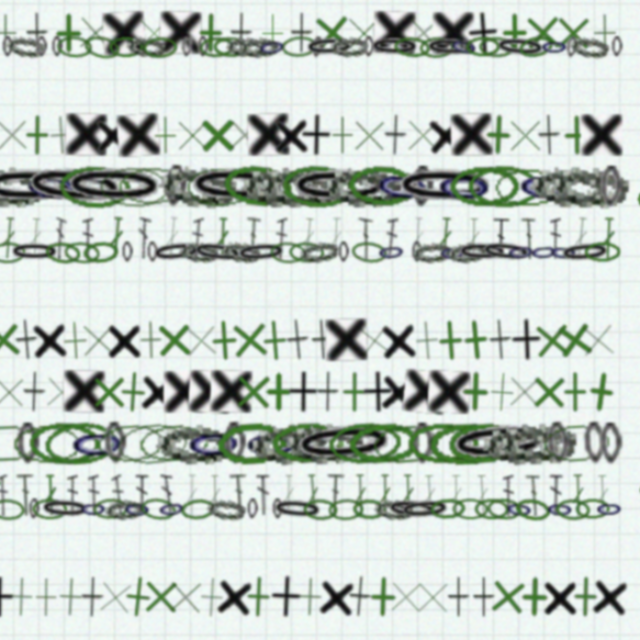chain: (53, 167, 151, 213), (441, 401, 538, 446), (299, 402, 396, 446), (90, 169, 186, 210), (203, 169, 299, 210), (392, 170, 487, 210), (13, 171, 108, 209), (296, 171, 391, 209), (260, 402, 333, 446), (472, 402, 545, 446), (178, 168, 250, 211), (138, 402, 208, 446), (235, 167, 303, 212), (73, 402, 143, 445), (488, 403, 560, 444), (158, 403, 226, 445), (332, 403, 400, 445), (536, 170, 607, 210), (120, 403, 187, 445), (350, 403, 417, 445), (526, 403, 593, 445), (370, 403, 436, 445), (441, 403, 507, 445), (294, 404, 365, 443), (290, 169, 357, 210), (5, 170, 75, 209), (517, 170, 587, 209), (230, 403, 296, 444), (350, 169, 415, 210), (254, 171, 324, 209), (271, 171, 341, 209), (329, 171, 399, 209), (176, 405, 246, 443), (87, 170, 153, 210), (123, 170, 189, 210), (424, 404, 490, 444), (460, 170, 527, 209), (60, 404, 126, 443), (281, 404, 347, 443), (9, 404, 73, 444), (140, 170, 205, 209), (405, 405, 471, 443), (443, 171, 508, 209), (44, 405, 109, 443), (202, 171, 266, 209), (482, 171, 546, 209), (373, 168, 429, 211), (54, 169, 110, 211), (430, 170, 484, 210), (96, 404, 150, 444), (202, 404, 256, 444), (255, 404, 309, 444), (504, 170, 558, 209), (208, 238, 256, 262), (171, 238, 219, 261), (471, 238, 519, 261), (484, 52, 532, 74), (248, 239, 296, 261), (543, 239, 591, 261), (281, 473, 329, 495), (385, 473, 433, 495), (397, 473, 445, 495), (311, 52, 358, 73), (70, 473, 117, 494), (421, 53, 468, 73), (109, 50, 145, 76), (306, 237, 343, 262), (182, 170, 205, 209), (531, 404, 554, 443), (370, 53, 417, 72), (42, 240, 89, 259), (450, 240, 497, 259), (441, 238, 478, 262), (505, 50, 540, 75), (128, 404, 150, 443), (237, 404, 259, 443), (565, 404, 587, 443), (39, 51, 76, 74), (235, 238, 272, 261), (502, 472, 536, 496), (408, 171, 429, 209), (580, 171, 601, 209), (49, 405, 70, 443), (580, 405, 601, 443), (252, 52, 288, 74), (553, 52, 589, 74), (409, 239, 445, 261), (129, 473, 165, 495), (222, 473, 258, 495), (161, 472, 195, 495), (353, 239, 388, 261), (409, 405, 429, 443), (149, 52, 185, 73), (334, 52, 370, 73), (197, 239, 233, 260), (392, 52, 426, 74), (74, 239, 108, 261), (92, 239, 125, 261), (198, 473, 231, 495), (375, 474, 410, 494), (85, 52, 118, 73), (290, 52, 323, 73), (109, 239, 142, 260), (118, 473, 151, 494), (425, 473, 458, 494), (477, 473, 510, 494), (442, 51, 471, 74), (240, 53, 275, 72), (215, 53, 248, 73), (470, 53, 503, 73), (164, 53, 196, 73), (228, 53, 260, 73), (416, 53, 448, 73), (25, 240, 57, 260), (280, 240, 312, 260), (297, 240, 329, 260), (25, 474, 57, 494), (310, 474, 342, 494), (333, 474, 365, 494), (540, 474, 572, 494), (566, 240, 599, 259), (446, 474, 479, 493), (355, 474, 386, 494), (268, 52, 296, 74), (493, 473, 521, 495), (133, 53, 165, 72), (458, 53, 490, 72), (63, 474, 95, 493), (466, 474, 498, 493), (558, 474, 590, 493), (377, 239, 404, 260), (495, 239, 522, 260), (516, 239, 543, 260), (177, 473, 204, 494), (433, 240, 460, 260), (534, 240, 561, 260), (146, 474, 172, 494), (531, 474, 557, 494), (526, 53, 552, 72), (106, 474, 132, 493), (576, 474, 602, 493), (317, 53, 329, 73), (549, 53, 561, 73), (199, 53, 210, 72), (36, 53, 46, 72), (67, 53, 77, 72), (81, 53, 91, 72), (214, 53, 224, 72), (365, 53, 375, 72), (591, 53, 601, 72), (145, 240, 155, 259), (168, 240, 178, 259), (342, 240, 352, 259), (409, 240, 419, 259), (60, 474, 70, 493), (259, 474, 269, 493), (282, 474, 292, 493)
double: (243, 452, 261, 490), (255, 217, 272, 256), (482, 218, 499, 256), (49, 452, 66, 490), (331, 452, 348, 490), (132, 217, 148, 256), (183, 217, 199, 256), (555, 217, 571, 256), (34, 218, 50, 256), (157, 218, 172, 256), (307, 218, 322, 256), (407, 218, 422, 256), (432, 218, 447, 256), (312, 452, 327, 490), (418, 452, 433, 490), (466, 452, 481, 490), (512, 452, 527, 490), (59, 218, 73, 256), (230, 218, 244, 256), (333, 218, 347, 256), (360, 218, 374, 256), (508, 218, 522, 256), (581, 218, 595, 256), (73, 452, 87, 490), (135, 452, 149, 490), (223, 452, 237, 490), (267, 452, 281, 490), (399, 452, 413, 490), (576, 452, 590, 490), (82, 218, 95, 256), (384, 218, 397, 256), (459, 218, 472, 256), (157, 452, 170, 490), (180, 452, 193, 490), (356, 452, 369, 490), (443, 452, 456, 490), (534, 452, 547, 490), (554, 452, 567, 490), (208, 218, 220, 256), (203, 452, 215, 490), (291, 452, 303, 490), (379, 452, 391, 490), (285, 218, 296, 256), (31, 452, 42, 490), (114, 452, 125, 490), (109, 218, 119, 256), (535, 218, 545, 256), (95, 452, 105, 490), (492, 452, 502, 490)
noise: (0, 453, 36, 468), (0, 487, 19, 508), (613, 192, 632, 211), (616, 460, 629, 473)
single: (536, 308, 579, 351), (354, 309, 396, 351), (400, 356, 442, 398), (561, 356, 603, 398), (118, 543, 160, 585), (316, 29, 357, 70), (16, 309, 57, 350), (241, 309, 282, 350), (447, 309, 488, 350), (558, 309, 599, 350), (139, 543, 180, 584), (476, 543, 517, 584), (127, 30, 167, 70), (70, 123, 110, 163), (140, 123, 180, 163), (82, 310, 122, 350), (197, 310, 237, 350), (218, 310, 258, 350), (264, 310, 304, 350), (403, 310, 443, 350), (424, 310, 464, 350), (517, 310, 557, 350), (70, 357, 110, 397), (135, 357, 175, 397), (205, 357, 245, 397), (423, 357, 463, 397), (471, 357, 511, 397), (207, 544, 247, 584), (229, 543, 267, 584), (571, 543, 609, 584), (101, 30, 140, 69), (179, 30, 218, 69), (374, 30, 413, 69), (400, 30, 439, 69), (509, 30, 548, 69), (25, 123, 64, 162), (93, 123, 132, 162), (237, 123, 276, 162), (259, 123, 298, 162), (444, 123, 483, 162), (468, 123, 507, 162), (104, 310, 143, 349), (152, 310, 191, 349), (173, 310, 212, 349), (330, 310, 369, 349), (91, 357, 130, 396), (225, 357, 264, 396), (245, 357, 284, 396), (447, 357, 486, 396), (492, 357, 531, 396), (34, 544, 73, 583), (79, 544, 118, 583), (161, 544, 200, 583), (183, 544, 222, 583), (250, 544, 289, 583), (297, 544, 336, 583), (363, 544, 402, 583), (384, 544, 423, 583), (501, 544, 540, 583), (548, 544, 587, 583), (322, 544, 360, 584), (422, 123, 459, 163), (379, 310, 416, 350), (160, 357, 197, 397), (379, 357, 416, 397), (20, 31, 58, 69), (77, 31, 115, 69), (155, 31, 193, 69), (207, 31, 245, 69), (263, 31, 301, 69), (346, 31, 384, 69), (428, 31, 466, 69), (484, 31, 522, 69), (537, 31, 575, 69), (566, 31, 604, 69), (49, 124, 87, 162), (165, 124, 203, 162), (190, 124, 228, 162), (213, 124, 251, 162), (327, 124, 365, 162), (351, 124, 389, 162), (400, 124, 438, 162), (493, 124, 531, 162), (540, 124, 578, 162), (563, 124, 601, 162), (23, 358, 61, 396), (114, 358, 152, 396), (183, 358, 221, 396), (269, 358, 307, 396), (338, 358, 376, 396), (515, 358, 553, 396), (539, 358, 577, 396), (57, 545, 95, 583), (409, 545, 447, 583), (61, 310, 98, 349), (119, 123, 155, 162), (282, 124, 317, 162), (130, 311, 165, 349), (527, 545, 562, 583), (458, 30, 489, 70), (498, 310, 528, 349), (279, 544, 309, 583), (307, 124, 336, 162), (295, 358, 324, 396), (363, 358, 392, 396), (18, 545, 47, 583), (47, 310, 70, 349), (294, 310, 317, 349), (317, 310, 339, 349), (479, 310, 501, 349), (351, 544, 373, 583), (384, 124, 405, 162), (524, 124, 545, 162), (55, 358, 76, 396), (108, 545, 129, 583), (58, 31, 78, 69), (244, 31, 264, 69), (299, 31, 319, 69), (323, 358, 343, 396), (442, 545, 462, 583), (465, 545, 485, 583)
